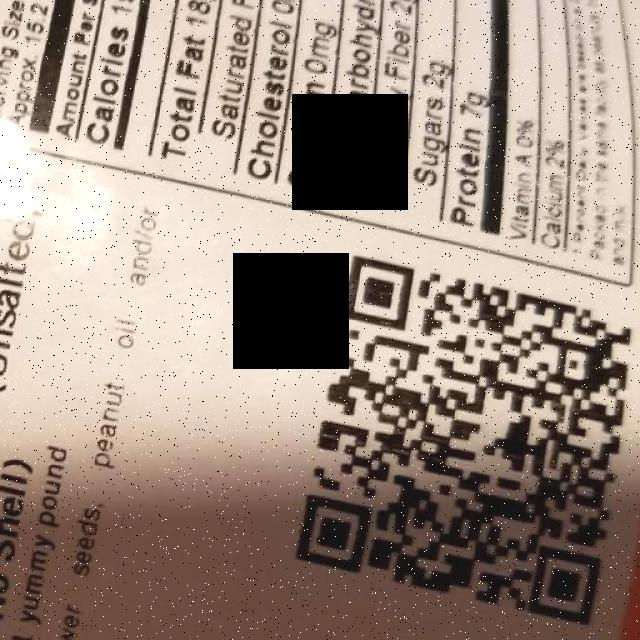QR_CODE: (287, 240, 638, 635)
